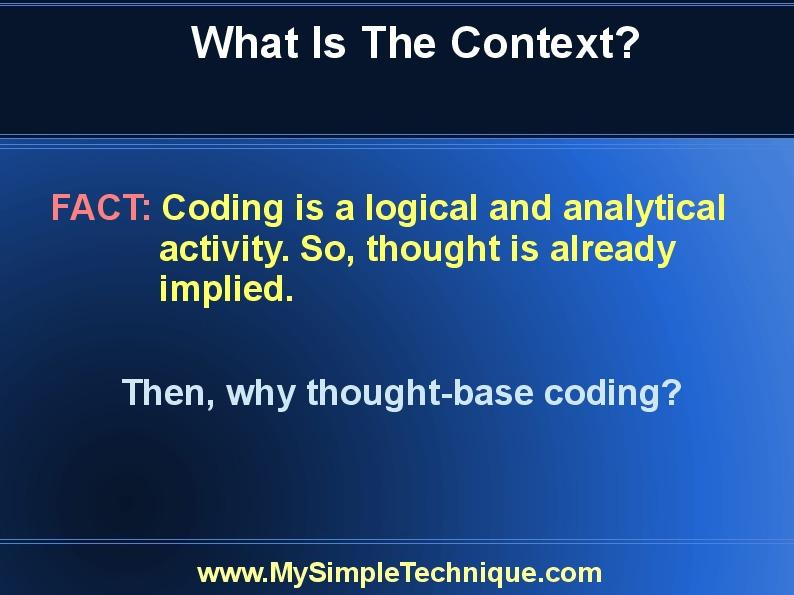subtitle: (41, 168, 744, 318), (86, 359, 702, 433)
title: (178, 9, 663, 83)
